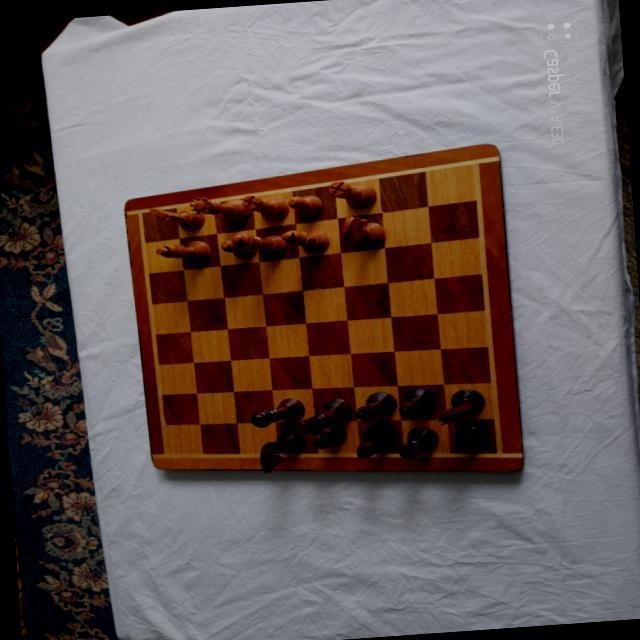black-bishop: (351, 422, 394, 457), (396, 384, 438, 417)
black-king: (248, 395, 306, 427)
black-knight: (256, 427, 307, 472), (436, 388, 484, 424)
black-pawn: (310, 422, 347, 448), (452, 424, 486, 452)
black-queen: (297, 396, 354, 436)
black-rook: (396, 424, 440, 460), (353, 388, 397, 421)
white-bishop: (154, 238, 211, 266), (279, 225, 328, 254)
white-king: (230, 226, 286, 258)
white-knight: (146, 203, 206, 233), (339, 211, 385, 248)
white-pawn: (288, 192, 324, 217), (219, 236, 256, 259)
white-queen: (187, 191, 249, 225)
white-rook: (327, 177, 377, 210), (240, 190, 289, 221)
